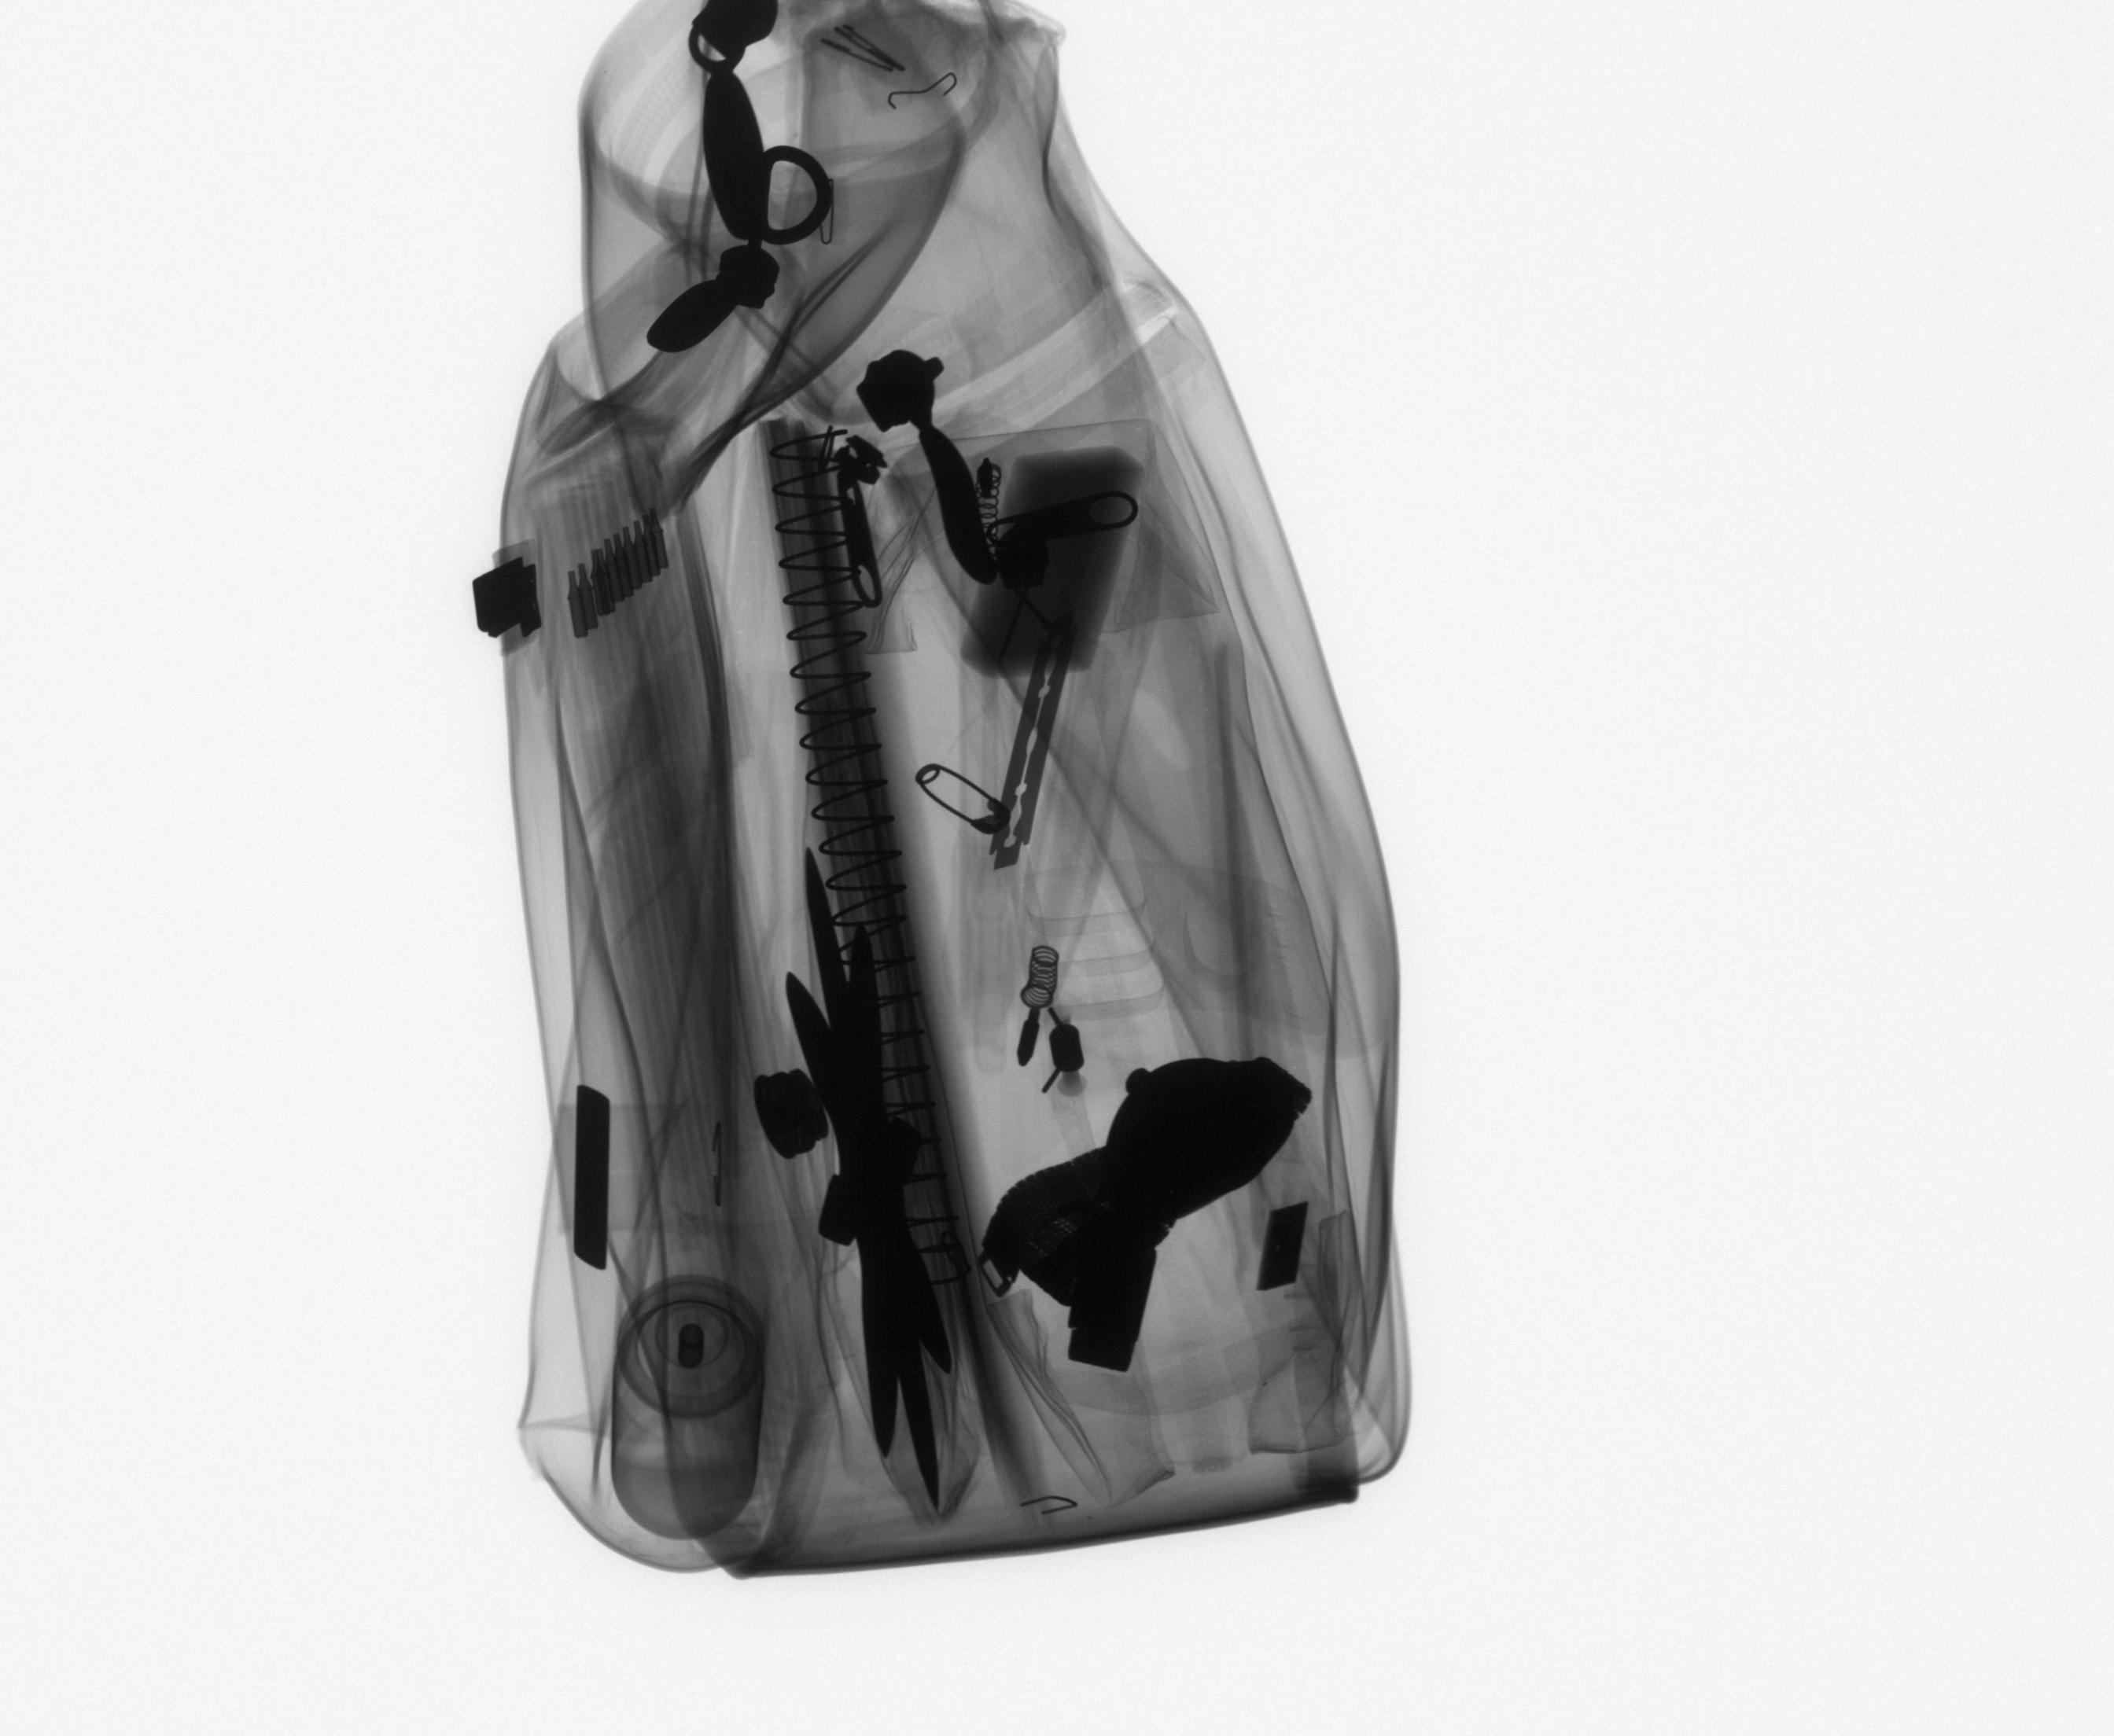RazorBlade: (968, 610, 1091, 882)
Shuriken: (777, 837, 991, 1521)
